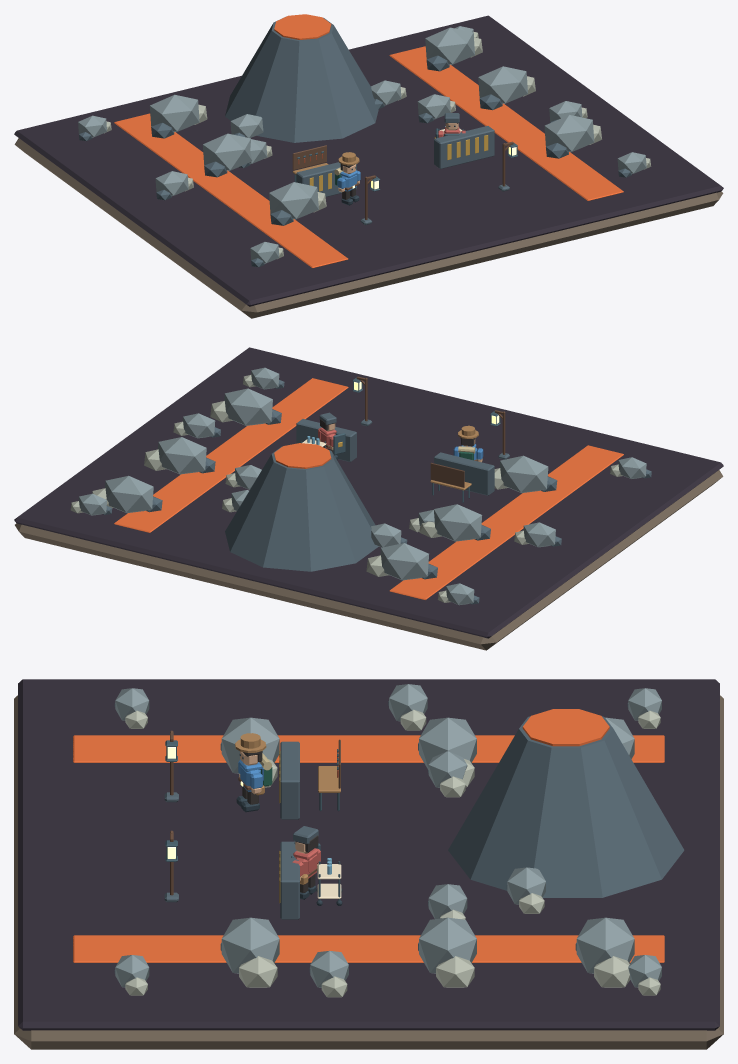
File: world-volcano.glb
The picture shows the model from 3 angles, top to bottom: view 1: azimuth 30°, elevation 25°; view 2: azimuth 150°, elevation 25°; view 3: azimuth 270°, elevation 25°; orthographic projection. The views are drawn at different scales.
Parts seen in each view (by area): view 1: terrain-top, volcano, terrain-stratum, lava-channel, lava-channel.001, barrier.002, rock.003, rock.012, rock.015, rock.018, rock.009, rock.006 (+8 smaller); view 2: terrain-top, volcano, terrain-stratum, lava-channel, lava-channel.001, rock.003, rock.009, rock.015, rock.012, rock.018, rock.006, barrier.001 (+10 smaller); view 3: terrain-top, volcano, terrain-stratum, lava-channel.001, lava-channel, crater, rock.012, rock.018, rock.015, rock.006, rock.003, barrier.001 (+13 smaller).
Part boxes in pixels (x1=…): terrain-top: x1=14, y1=15, x2=723, y2=306; volcano: x1=225, y1=17, x2=378, y2=142; terrain-stratum: x1=14, y1=138, x2=723, y2=318; lava-channel: x1=114, y1=113, x2=348, y2=268; lava-channel.001: x1=389, y1=46, x2=623, y2=200; barrier.002: x1=434, y1=126, x2=494, y2=168; rock.003: x1=269, y1=182, x2=318, y2=219; rock.012: x1=544, y1=115, x2=594, y2=152; rock.015: x1=478, y1=66, x2=527, y2=103; rock.018: x1=425, y1=27, x2=474, y2=64; rock.009: x1=149, y1=94, x2=199, y2=132; rock.006: x1=202, y1=133, x2=252, y2=170; terrain-top: x1=14, y1=347, x2=723, y2=638; volcano: x1=225, y1=446, x2=378, y2=571; terrain-stratum: x1=15, y1=470, x2=723, y2=650; lava-channel: x1=389, y1=445, x2=623, y2=600; lava-channel.001: x1=114, y1=378, x2=348, y2=532; rock.003: x1=499, y1=455, x2=548, y2=493; rock.009: x1=380, y1=543, x2=428, y2=580; rock.015: x1=158, y1=437, x2=206, y2=474; rock.012: x1=224, y1=388, x2=272, y2=425; rock.018: x1=105, y1=475, x2=153, y2=513; rock.006: x1=433, y1=504, x2=482, y2=541; barrier.001: x1=434, y1=452, x2=494, y2=495; terrain-top: x1=18, y1=679, x2=719, y2=1030; volcano: x1=448, y1=716, x2=684, y2=897; terrain-stratum: x1=14, y1=695, x2=723, y2=1049; lava-channel.001: x1=73, y1=935, x2=664, y2=962; lava-channel: x1=73, y1=735, x2=664, y2=762; crater: x1=522, y1=709, x2=609, y2=746; rock.012: x1=221, y1=917, x2=279, y2=973; rock.018: x1=576, y1=917, x2=634, y2=973; rock.015: x1=419, y1=917, x2=476, y2=973; rock.006: x1=419, y1=717, x2=476, y2=769; rock.003: x1=221, y1=717, x2=279, y2=773; barrier.001: x1=280, y1=741, x2=299, y2=819.
Size of the model in its own units: 21 by 4.35 by 18.
